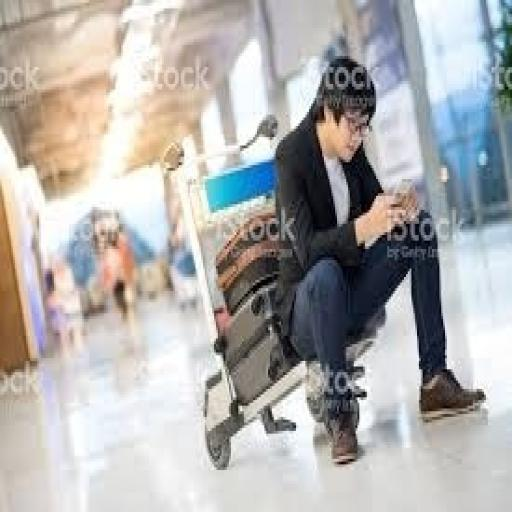texting: (270, 53, 486, 465)
